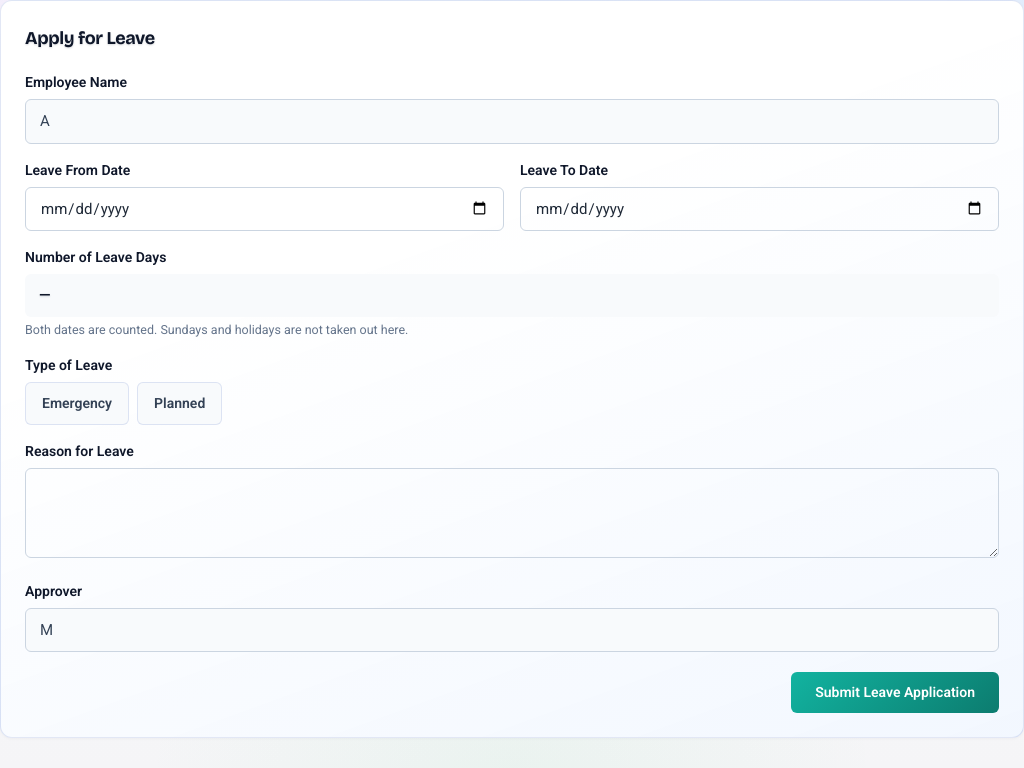
Scenario: ApplyLeaveForm › shows the server's error instead of a success message
In the date field labelled "Leave From Date": {"x": 264, "y": 209} x1=25 y1=186 x2=504 y2=231, type "2026-09-15"
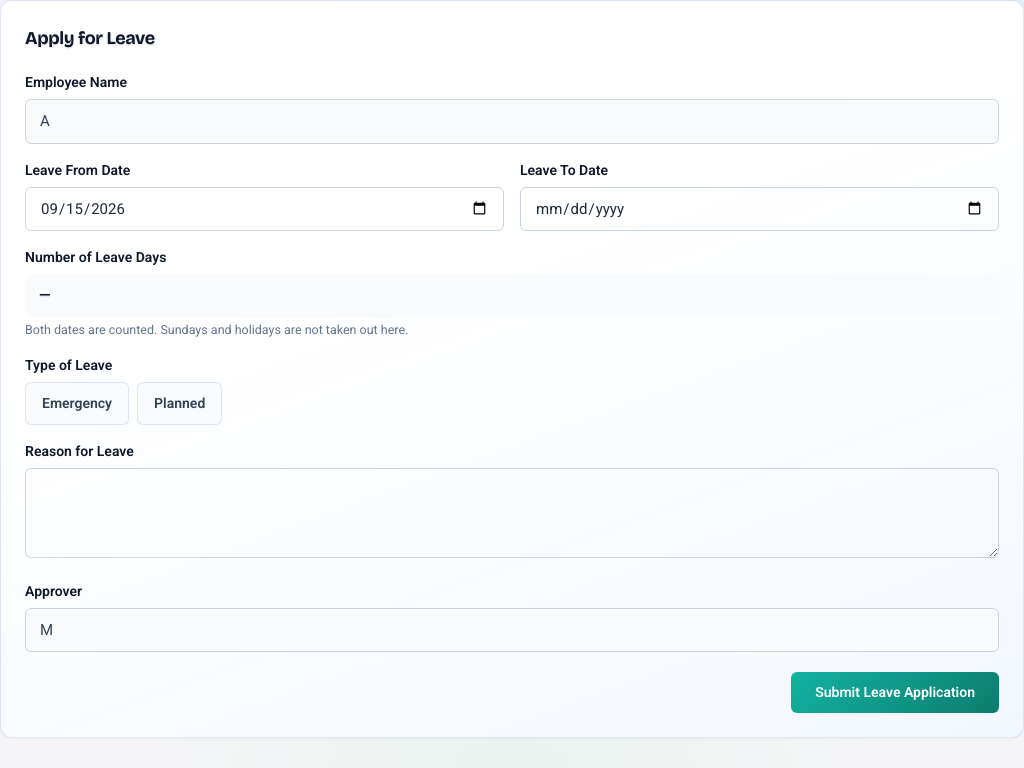
In the date field labelled "Leave To Date": {"x": 760, "y": 209} x1=520 y1=186 x2=999 y2=231, type "2026-09-21"
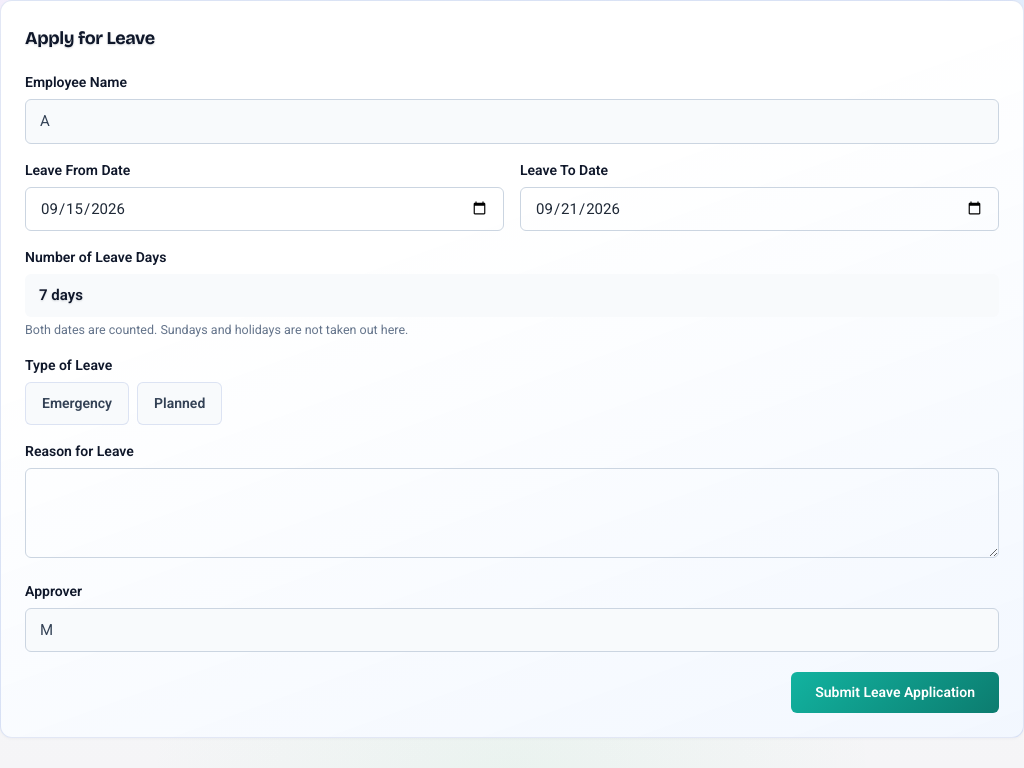
Click the radio button labelled "Planned": {"x": 180, "y": 404} x1=137 y1=382 x2=222 y2=425
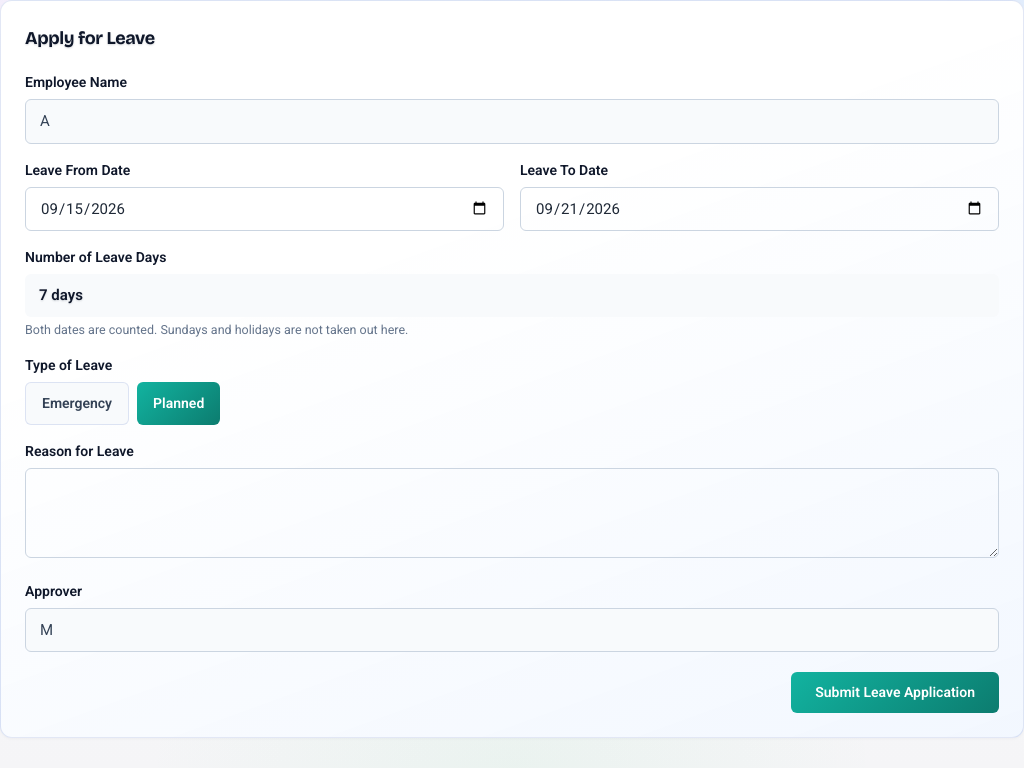
In the text box labelled "Reason for Leave": {"x": 512, "y": 513} x1=25 y1=468 x2=999 y2=558, type "Wedding"
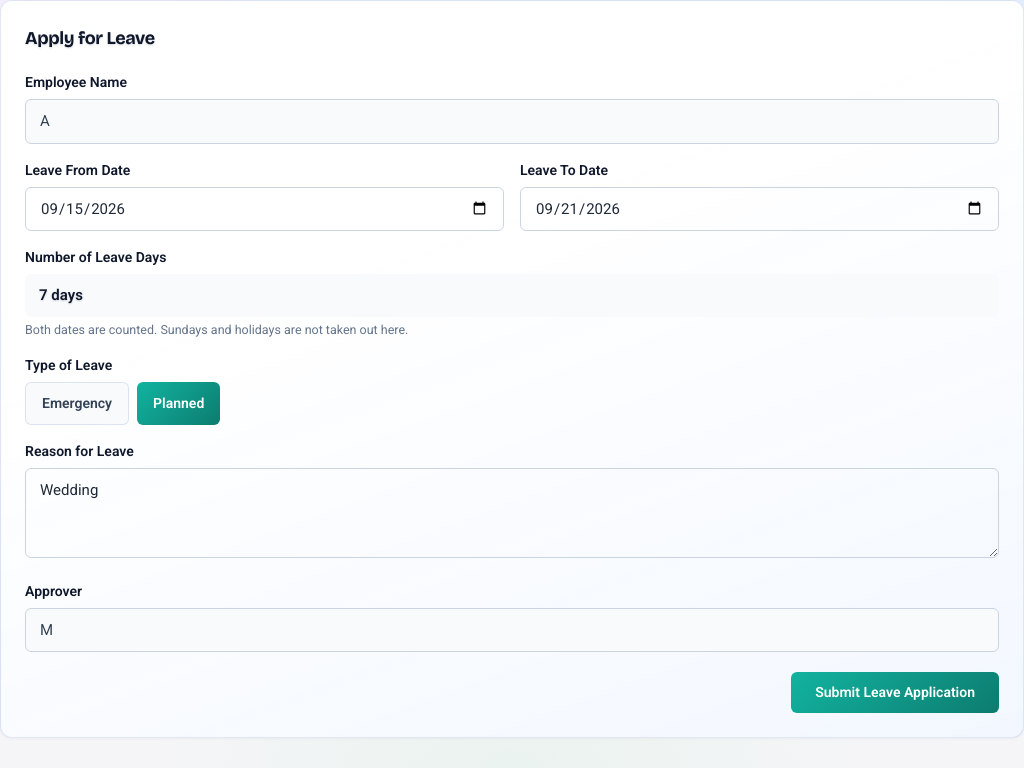
Click the button "Submit Leave Application": {"x": 895, "y": 693} x1=791 y1=672 x2=999 y2=713
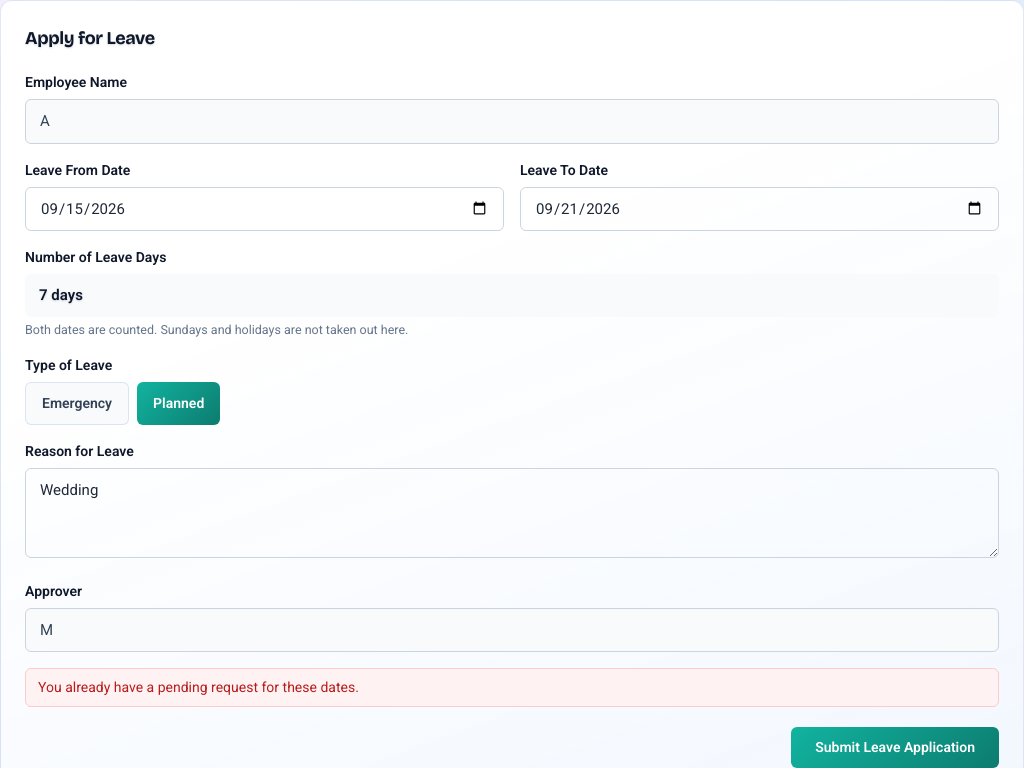
Result: the message shows "already have a pending" at x1=38 y1=679 x2=359 y2=695
